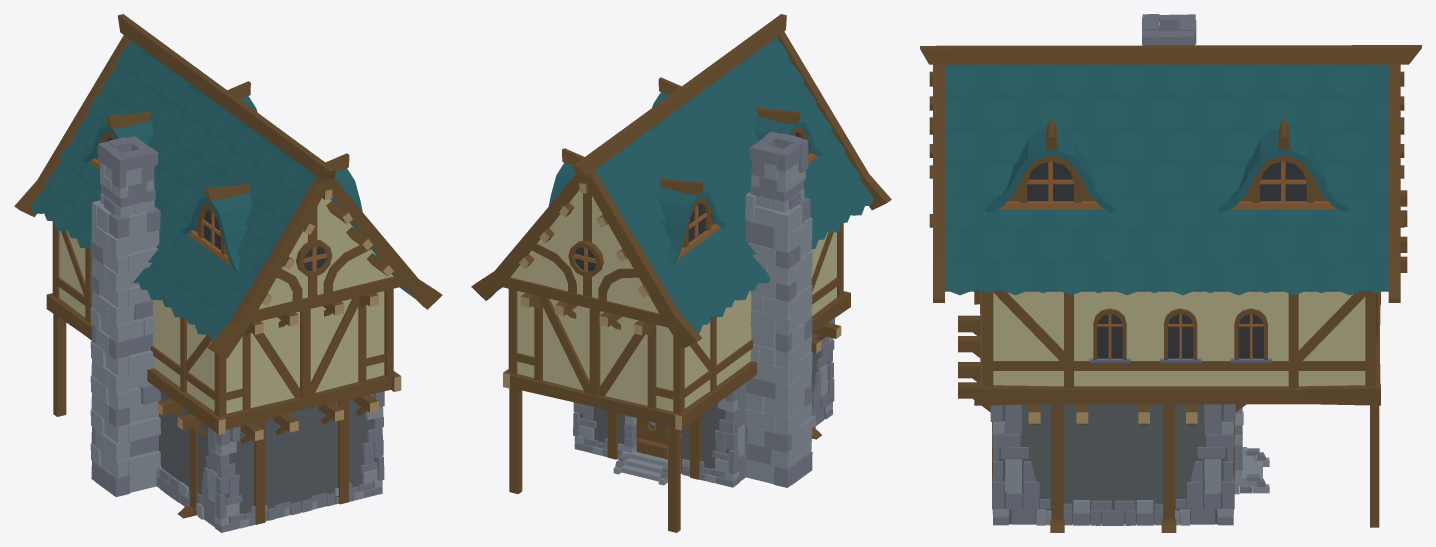
File: House_2.glb
3 renders of one model, left to right at view 1: azimuth 30°, elevation 25°; view 2: azimuth 150°, elevation 25°; view 3: azimuth 270°, elevation 25°, orthographic. The views are drawn at different scales.
Visible parts, largest first — view 1: House_2; view 2: House_2; view 3: House_2.
Part boxes in pixels (box(x1,y1,x2,y2)): House_2: box(14, 14, 442, 532); House_2: box(471, 14, 891, 532); House_2: box(920, 14, 1421, 532).
Size of the model in its own units: 2.22 by 3.25 by 3.42.
1 material, 1 textured.
